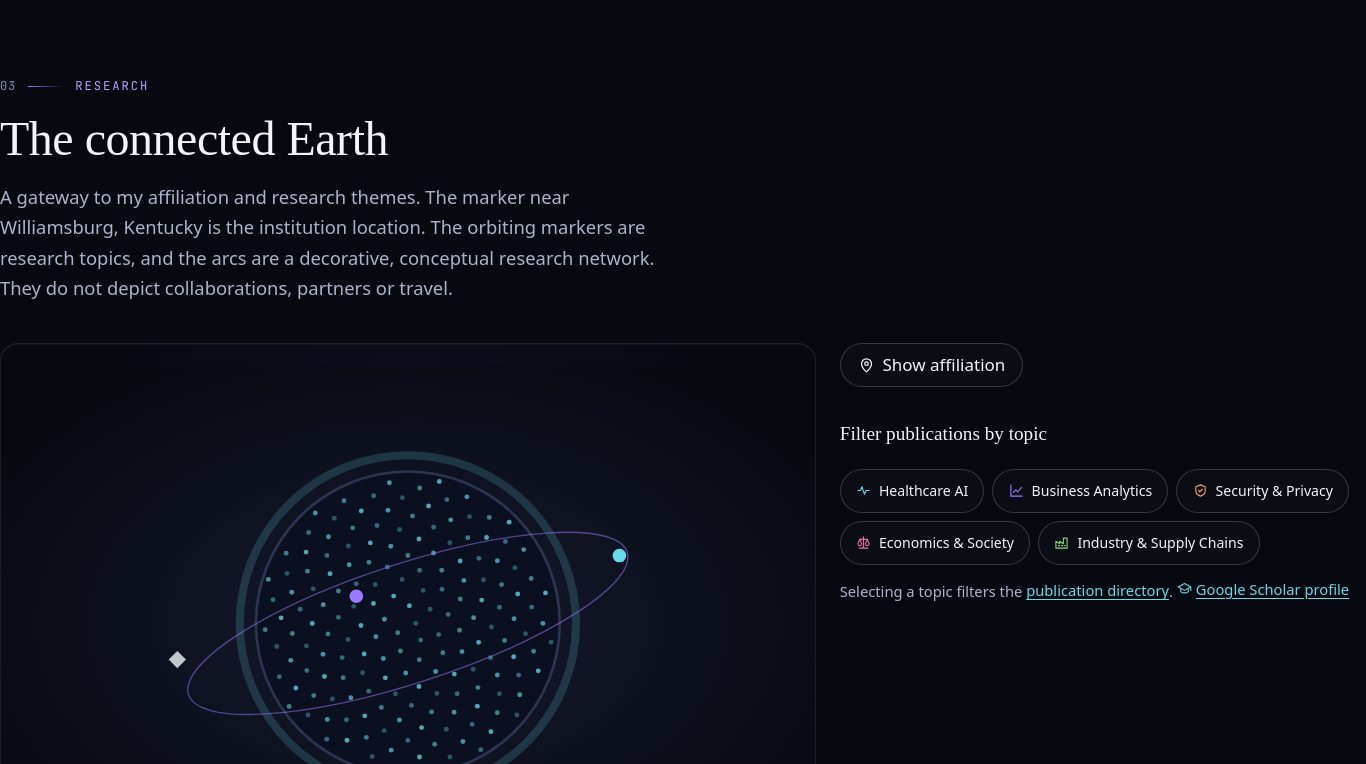
Test: EarthSection › topic buttons are toggles that drive the shared directory filter
Click the button "Economics & Society" at (935, 543), box x1=840 y1=521 x2=1030 y2=565
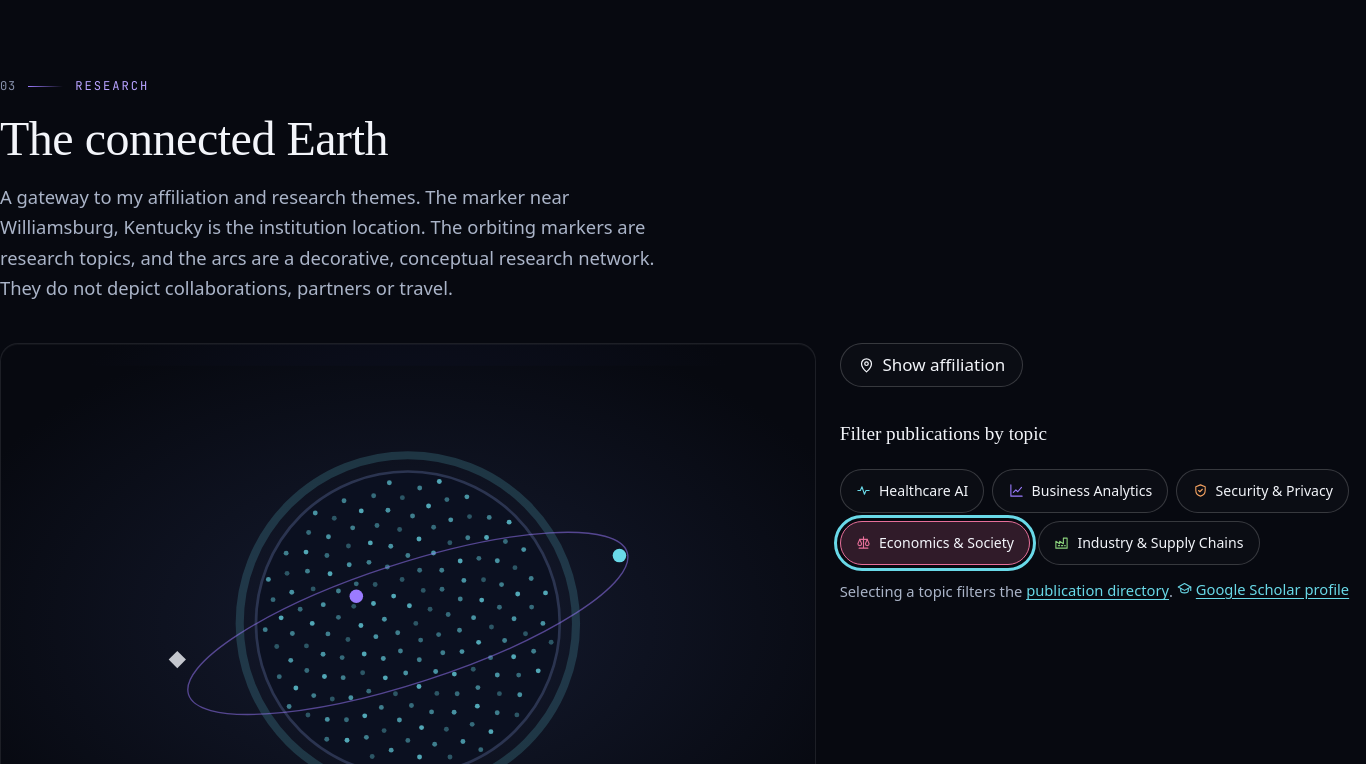
Result: the button "Economics & Society" is pressed
Click the button "Economics & Society" at (935, 543), box x1=840 y1=521 x2=1030 y2=565
(page scrolled)
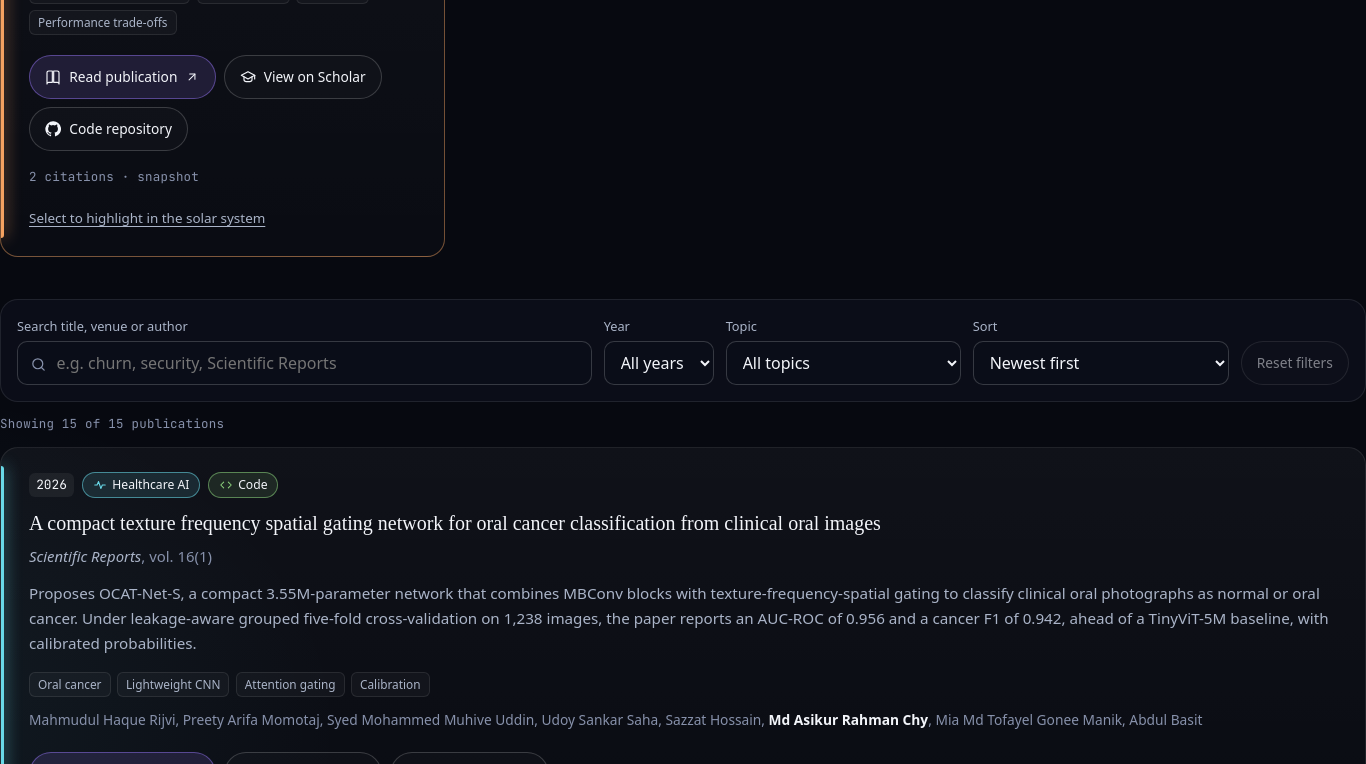
Result: the text "Showing 15 of 15 publications" is shown at x1=0 y1=415 x2=224 y2=432
